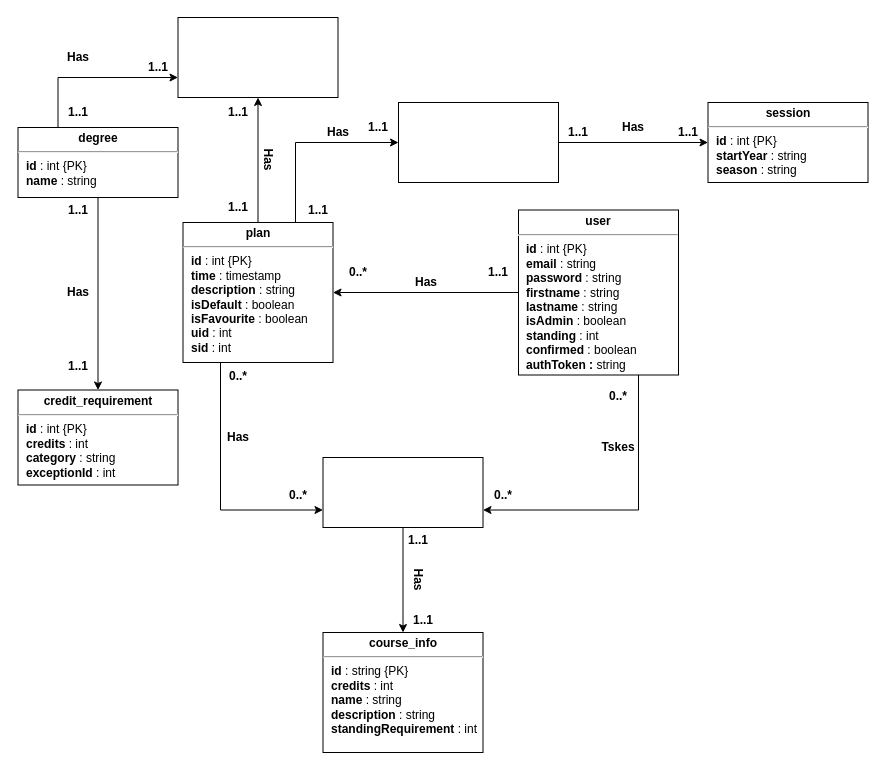
Some shapes in this 885 by 770 pixel diagram are drawn without their labels. The box of each missing label's shape, as (x1, y1, x2, y2) in pixels:
course id : int {PK} code : string: (322, 456, 483, 528)
specialization id : int {PK} name : string did : int: (177, 16, 338, 98)
term id : int {PK} num : int sid : int: (398, 102, 558, 182)
